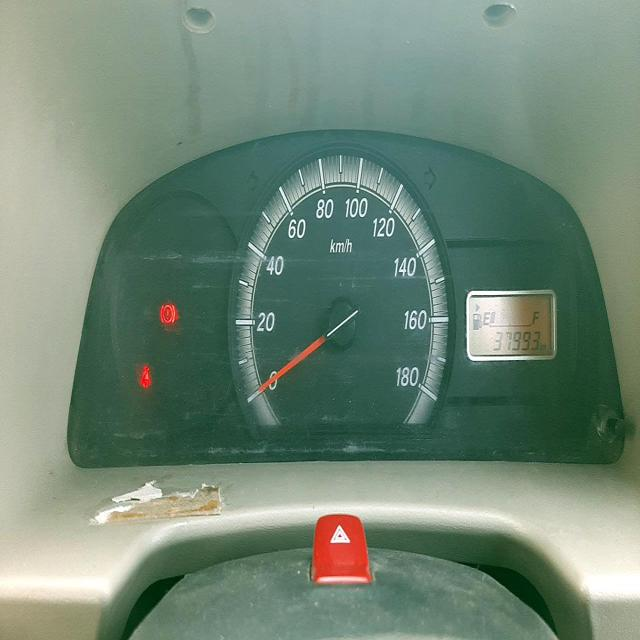odometer: (492, 325, 543, 356)
